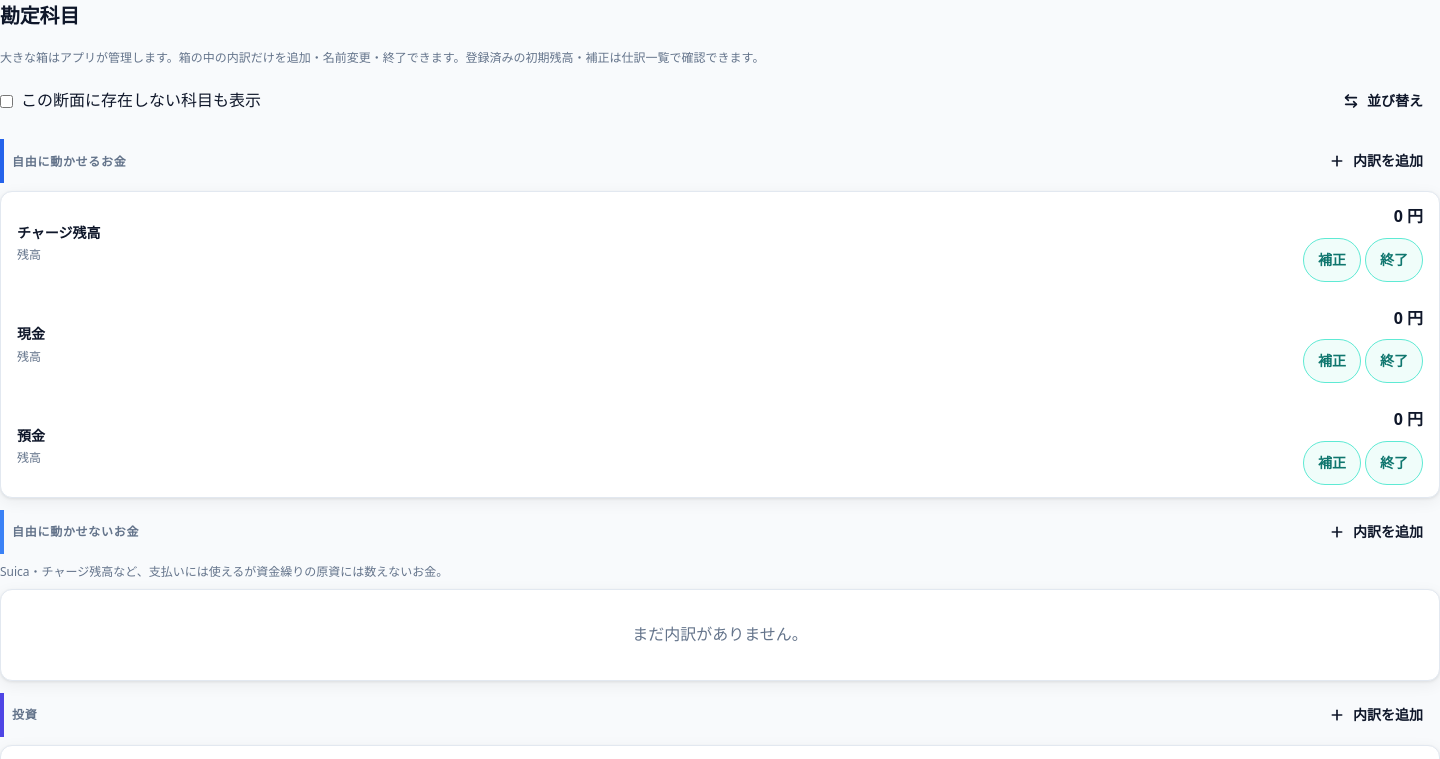
補正導線の初期残高分岐 › 内訳編集シートにメモ欄（textarea）が無い
Click the button with aria-label "編集: 現金".
click(31, 334)  # box [1, 294, 1439, 395]
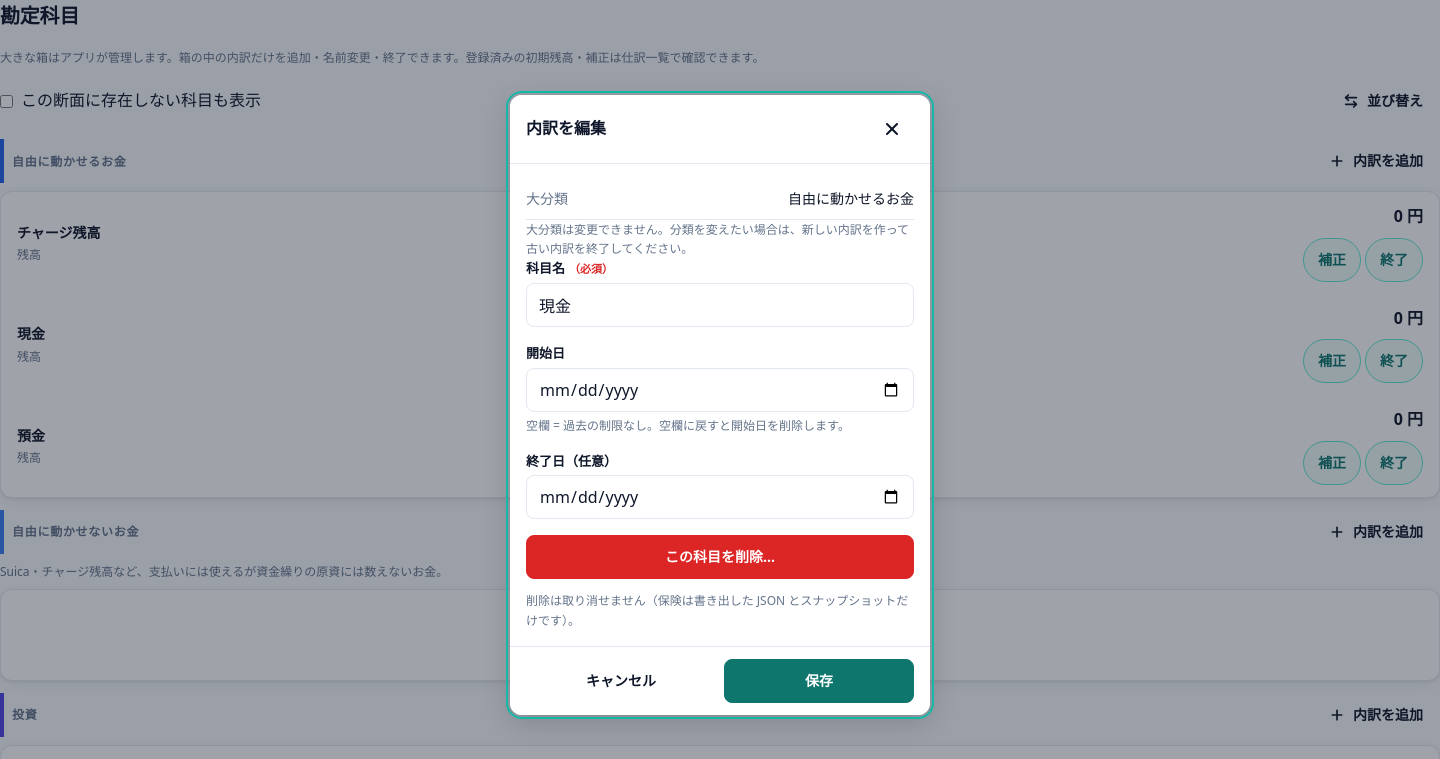
Check: the heading "内訳を編集" is shown, box [526, 116, 606, 142]
